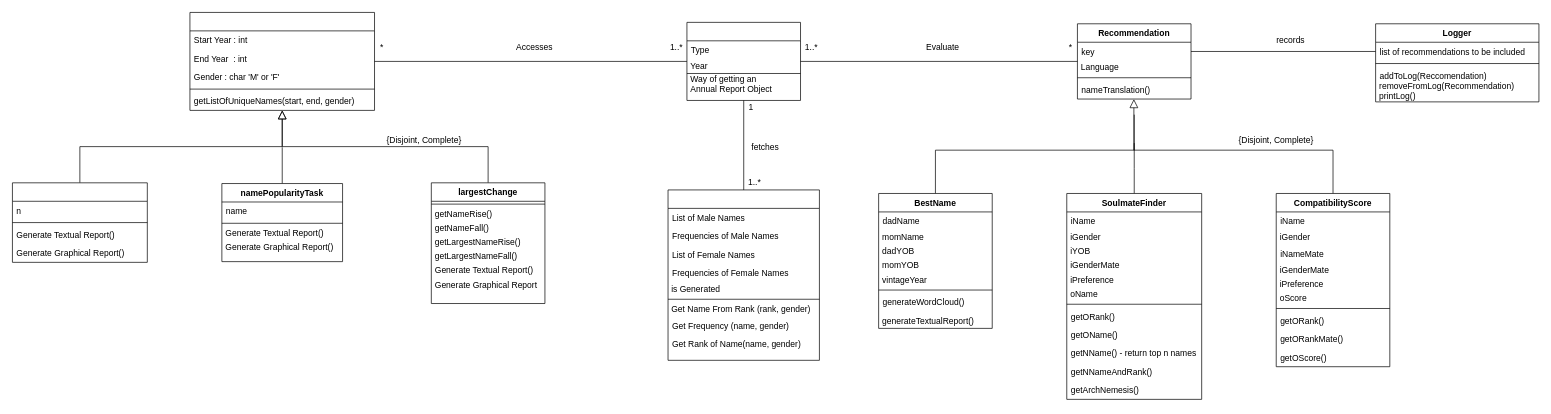
Image size: 1551x414. Some labels were removed from this diagram. Here are the shapes that lost their labels. From the top down, the box of each, then its label:
(189, 12, 375, 110): Report
(686, 22, 801, 100): Handler
(12, 182, 147, 262): topNNames
(667, 189, 819, 360): Annual Data
